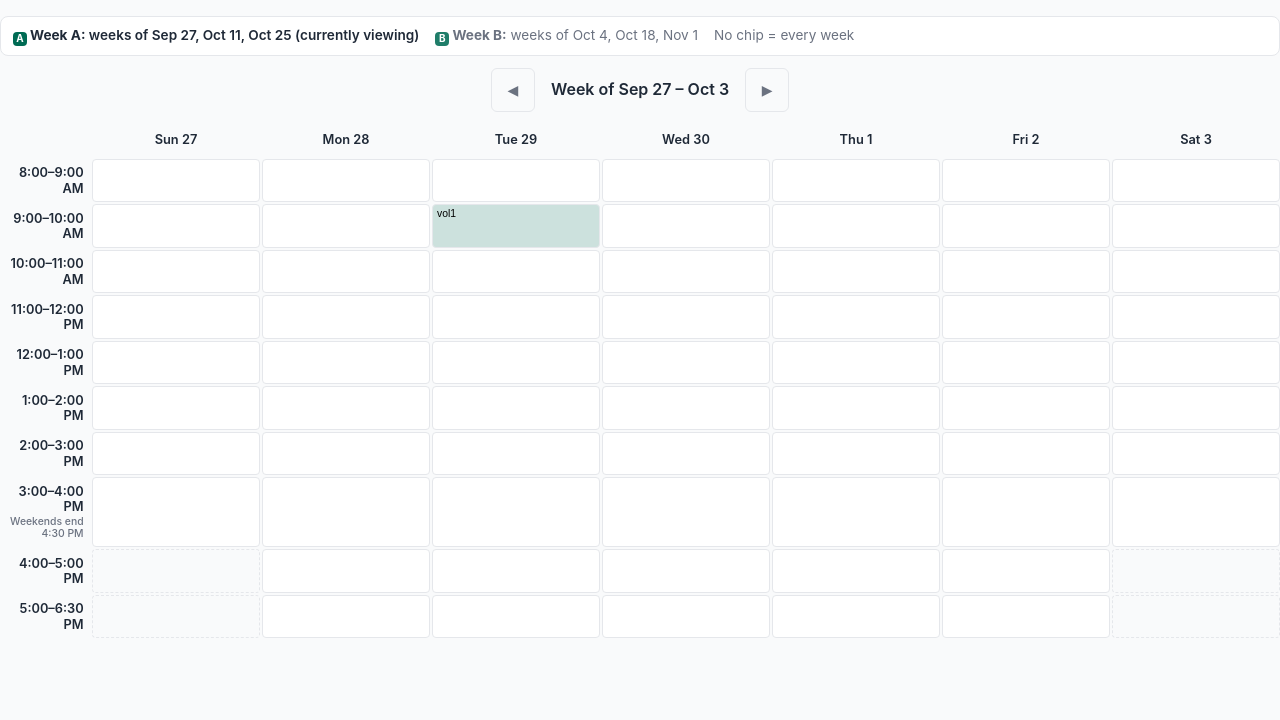
Test: ScheduleOverview › falls back to username when first/last name are blank
Expected: the text "vol1" is shown, left=437, top=208, right=456, bottom=220
Click the cell "vol1".
click(516, 226)  # box left=432, top=204, right=600, bottom=248
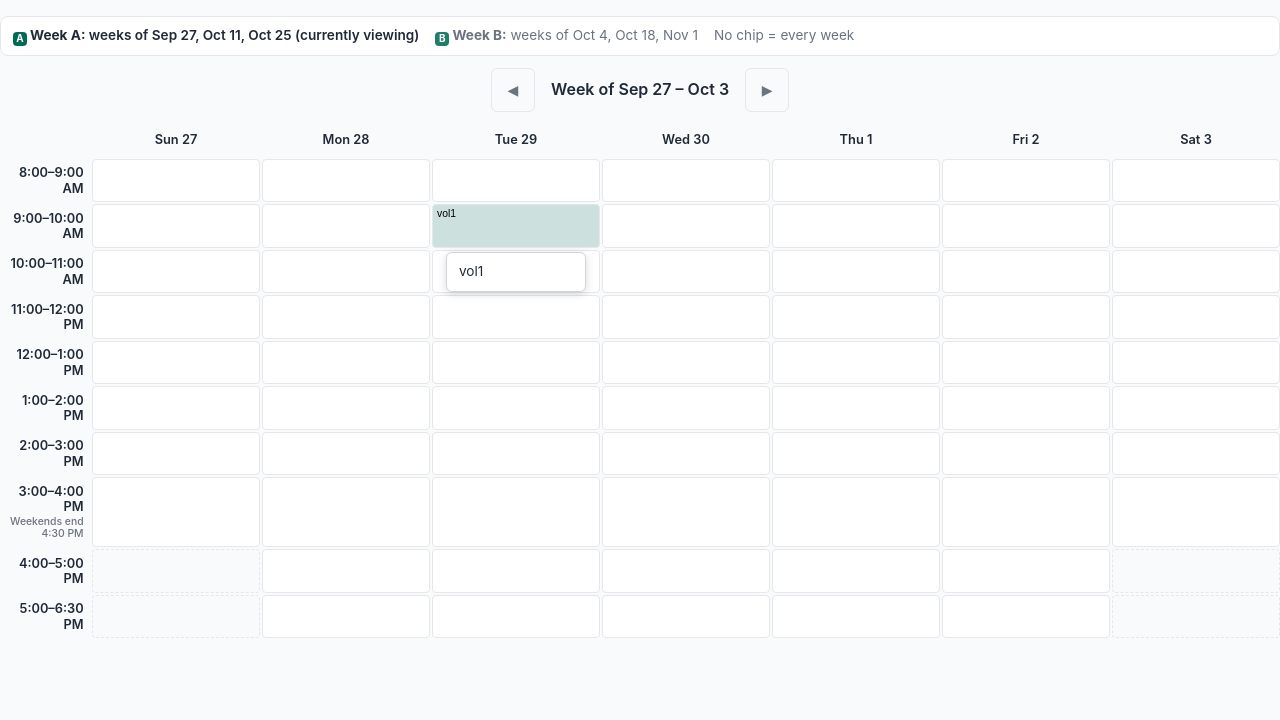
Expected: the 2nd text "vol1" is shown, left=459, top=261, right=483, bottom=283
